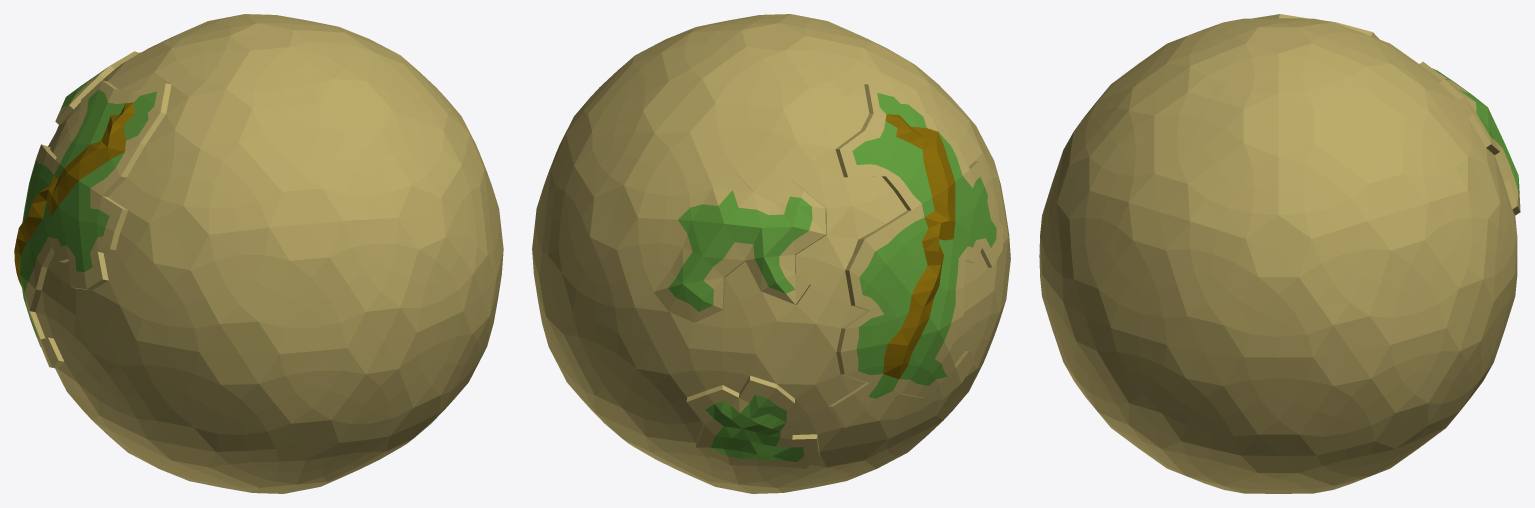
File: planet.glb
3 renders of one model, left to right at view 1: azimuth 30°, elevation 25°; view 2: azimuth 150°, elevation 25°; view 3: azimuth 270°, elevation 25°, orthographic.
Parts seen in each view (by area): view 1: Icosphere; view 2: Icosphere; view 3: Icosphere.
Boxes of the visible parts, <box> form: Icosphere: <box>14,14,503,493</box>; Icosphere: <box>532,14,1010,493</box>; Icosphere: <box>1039,14,1520,493</box>.
Bounding box in the file's own units: 19.09 × 19 × 19.08.
